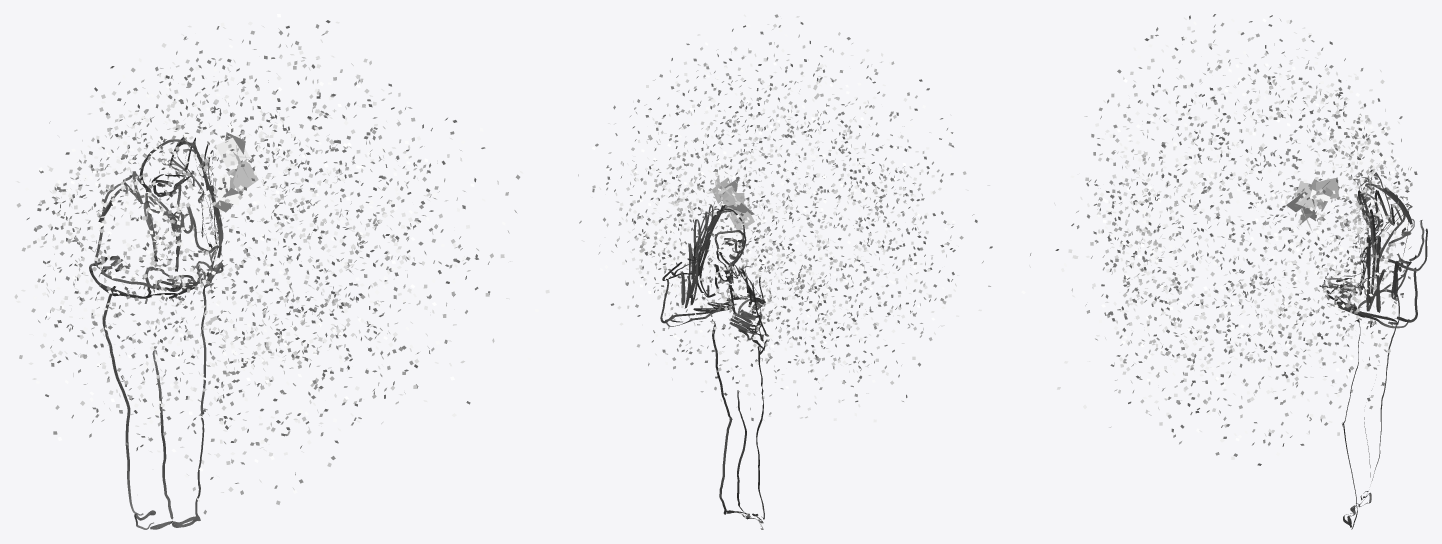
3 renders of one model, left to right at view 1: azimuth 30°, elevation 25°; view 2: azimuth 150°, elevation 25°; view 3: azimuth 270°, elevation 25°, orthographic. The views are drawn at different scales.
Visible parts, largest first — view 1: brush_Snow_g0_b0, brush_Light_g0_b0, brush_Stars_g0_b0, brush_Smoke_g0_b0; view 2: brush_Snow_g0_b0, brush_Light_g0_b0, brush_Stars_g0_b0, brush_Smoke_g0_b0; view 3: brush_Snow_g0_b0, brush_Light_g0_b0, brush_Stars_g0_b0, brush_Smoke_g0_b0.
Part boxes in pixels (box(x1,y1,x2,y2)): brush_Snow_g0_b0: box(14, 14, 549, 514); brush_Light_g0_b0: box(89, 137, 224, 529); brush_Stars_g0_b0: box(42, 95, 313, 317); brush_Smoke_g0_b0: box(214, 132, 258, 212); brush_Snow_g0_b0: box(578, 14, 992, 422); brush_Light_g0_b0: box(657, 205, 768, 529); brush_Stars_g0_b0: box(635, 165, 842, 362); brush_Smoke_g0_b0: box(709, 175, 754, 230); brush_Snow_g0_b0: box(1021, 14, 1417, 465); brush_Light_g0_b0: box(1319, 169, 1427, 529); brush_Stars_g0_b0: box(1312, 119, 1413, 346); brush_Smoke_g0_b0: box(1286, 177, 1338, 232).
Size of the model in its own units: 2.11 by 2.35 by 1.72.
4 materials, 4 textured.
